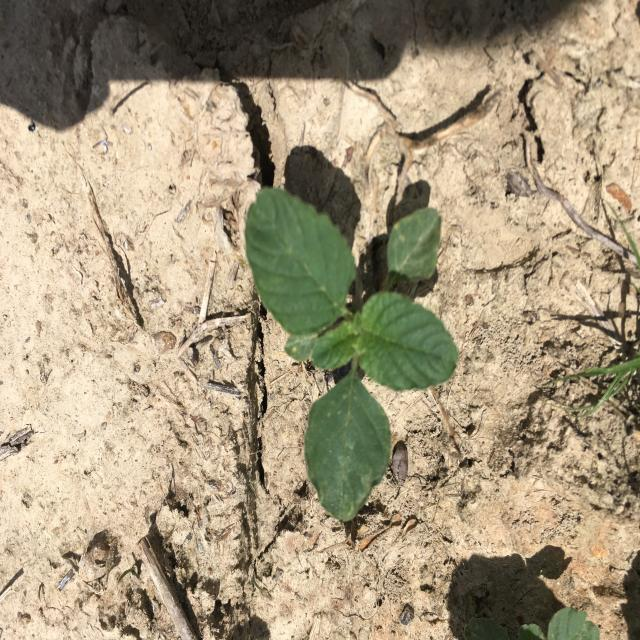PalmerAmaranth: (244, 188, 458, 522)
